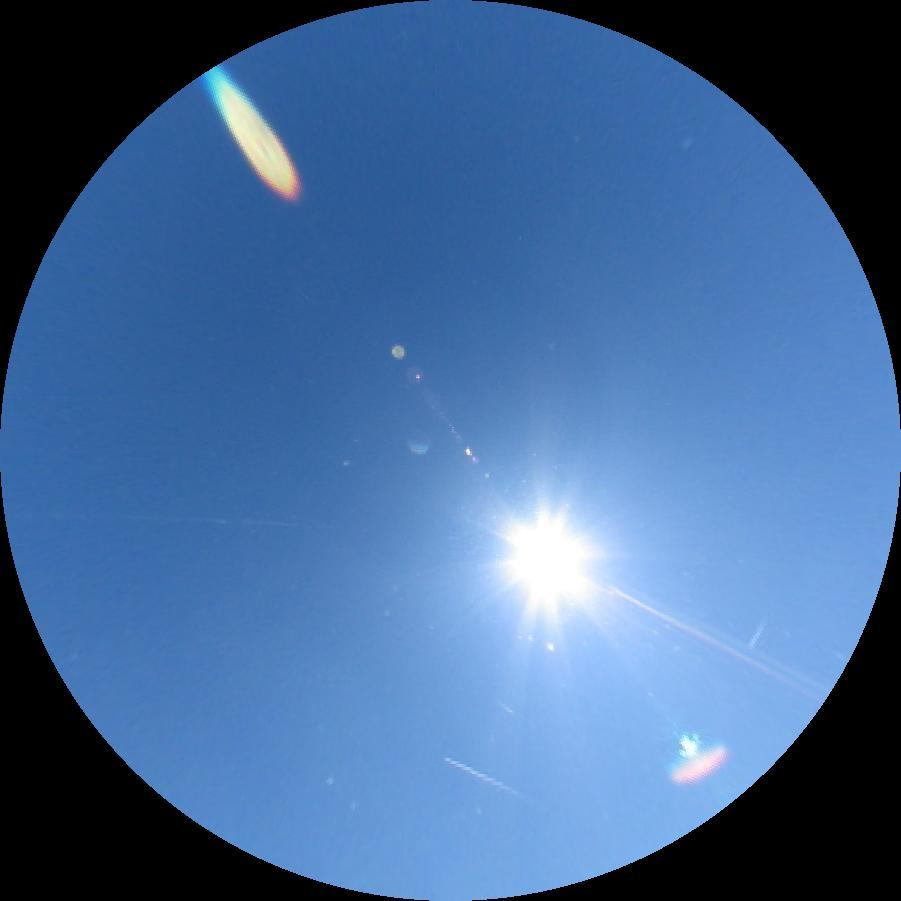contrail young: (443, 755, 536, 805), (746, 621, 767, 652), (494, 700, 517, 717)
parasite: (589, 577, 825, 705), (8, 511, 305, 529)
sun: (490, 500, 606, 622)
